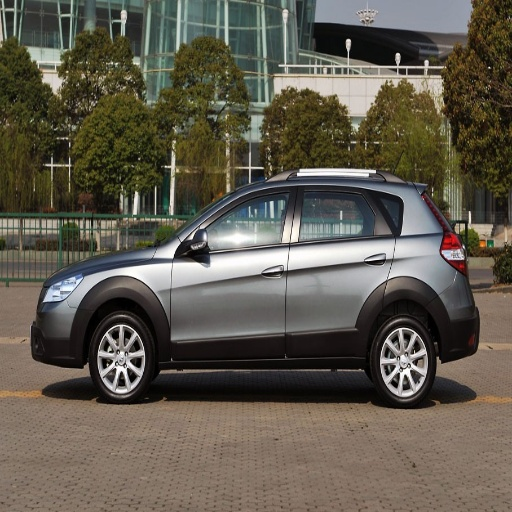back_left_door: (287, 182, 394, 355)
front_left_door: (172, 183, 295, 355)
